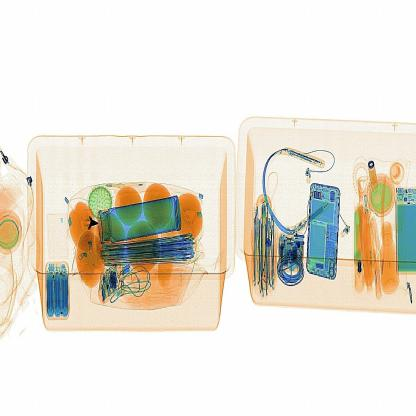gun: (76, 207, 106, 240)
